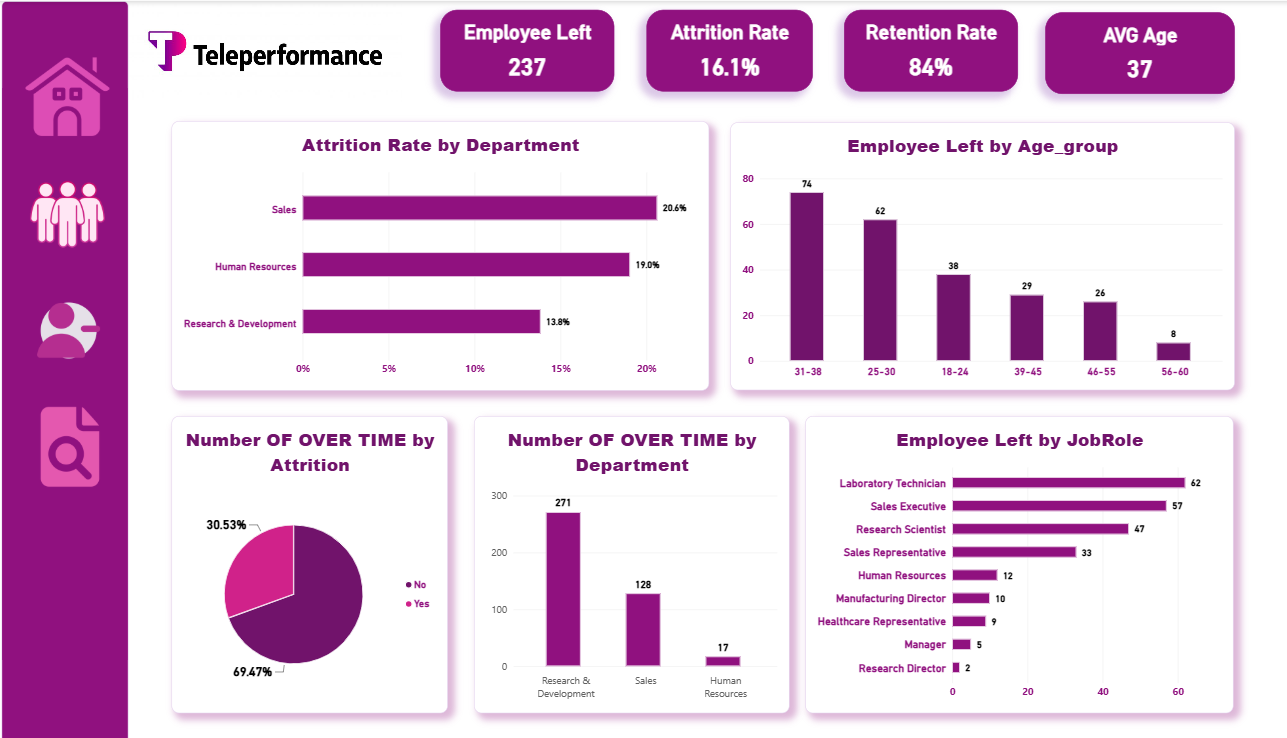

The dashboard page shown, as its layout file describes it:
{"tool":"powerbi","page":{"name":"Overview","canvas":[1920,1080],"ordinal":0},"visuals":[{"type":"shape","box":[10.5,0,184.2,1080.7],"z":0},{"type":"image","box":[194.7,0,394.7,145.6],"z":1000},{"type":"advanceCardE03760C5AB684758B56AA29F9E6C257B","title":"Employee Left","fields":{"mainMeasure":["Measuers (2).Employee Left"]},"box":[646.7,13.3,251.9,118.5],"z":2000},{"type":"advanceCardE03760C5AB684758B56AA29F9E6C257B","title":"Attrition Rate","fields":{"mainMeasure":["Measuers (2).Attrition Rate"]},"box":[945,13.3,240.7,118.5],"z":3000},{"type":"advanceCardE03760C5AB684758B56AA29F9E6C257B","title":"Retention Rate","fields":{"mainMeasure":["Measuers (2).Retention Rate"]},"box":[1230,13.3,251.9,118.5],"z":4000},{"type":"advanceCardE03760C5AB684758B56AA29F9E6C257B","title":"AVG Age","fields":{"mainMeasure":["Measuers (2).AVG Age"]},"box":[1521.7,16.7,274.1,118.5],"z":5000},{"type":"barChart","fields":{"Category":["Department.Department"],"Y":["Measuers (2).Attrition Rate"]},"box":[256.7,173.3,778.3,390],"z":6000},{"type":"pieChart","fields":{"Category":["HR-Attrition.Attrition"],"Y":["Measuers (2).Number OF OVER TIME"]},"box":[256.7,600,400,430],"z":7000},{"type":"barChart","fields":{"Category":["JobRole.JobRole"],"Y":["Measuers (2).Employee Left"]},"box":[1175,600,620,430],"z":8000},{"type":"columnChart","fields":{"Category":["HR-Attrition.Age_group"],"Y":["Measuers (2).Employee Left"]},"box":[1065,175,730,388.3],"z":9000},{"type":"columnChart","fields":{"Category":["Department.Department"],"Y":["Measuers (2).Number OF OVER TIME"]},"box":[695,600,456.7,430],"z":10000},{"type":"image","box":[26.7,248.3,158.3,121.7],"z":11000},{"type":"image","box":[26.7,78.3,158.3,121.7],"z":12000},{"type":"image","box":[28.3,416.7,158.3,121.7],"z":13000},{"type":"image","box":[30,585,158.3,121.7],"z":14000}]}

Visuals, with their boxes in screenshot pixels (x1, y1, x2, y2), scaled from the page's 1920x1080 canvas onto the 1287x738 screenshot:
shape: x1=7 y1=0 x2=131 y2=737
image: x1=131 y1=0 x2=395 y2=99
"Employee Left" advanceCardE03760C5AB684758B56AA29F9E6C257B: x1=433 y1=9 x2=602 y2=90
"Attrition Rate" advanceCardE03760C5AB684758B56AA29F9E6C257B: x1=633 y1=9 x2=795 y2=90
"Retention Rate" advanceCardE03760C5AB684758B56AA29F9E6C257B: x1=824 y1=9 x2=993 y2=90
"AVG Age" advanceCardE03760C5AB684758B56AA29F9E6C257B: x1=1020 y1=11 x2=1204 y2=92
barChart - Department.Department x Measuers (2).Attrition Rate: x1=172 y1=118 x2=694 y2=385
pieChart - HR-Attrition.Attrition x Measuers (2).Number OF OVER TIME: x1=172 y1=410 x2=440 y2=704
barChart - JobRole.JobRole x Measuers (2).Employee Left: x1=788 y1=410 x2=1203 y2=704
columnChart - HR-Attrition.Age_group x Measuers (2).Employee Left: x1=714 y1=120 x2=1203 y2=385
columnChart - Department.Department x Measuers (2).Number OF OVER TIME: x1=466 y1=410 x2=772 y2=704
image: x1=18 y1=170 x2=124 y2=253
image: x1=18 y1=54 x2=124 y2=137
image: x1=19 y1=285 x2=125 y2=368
image: x1=20 y1=400 x2=126 y2=483
